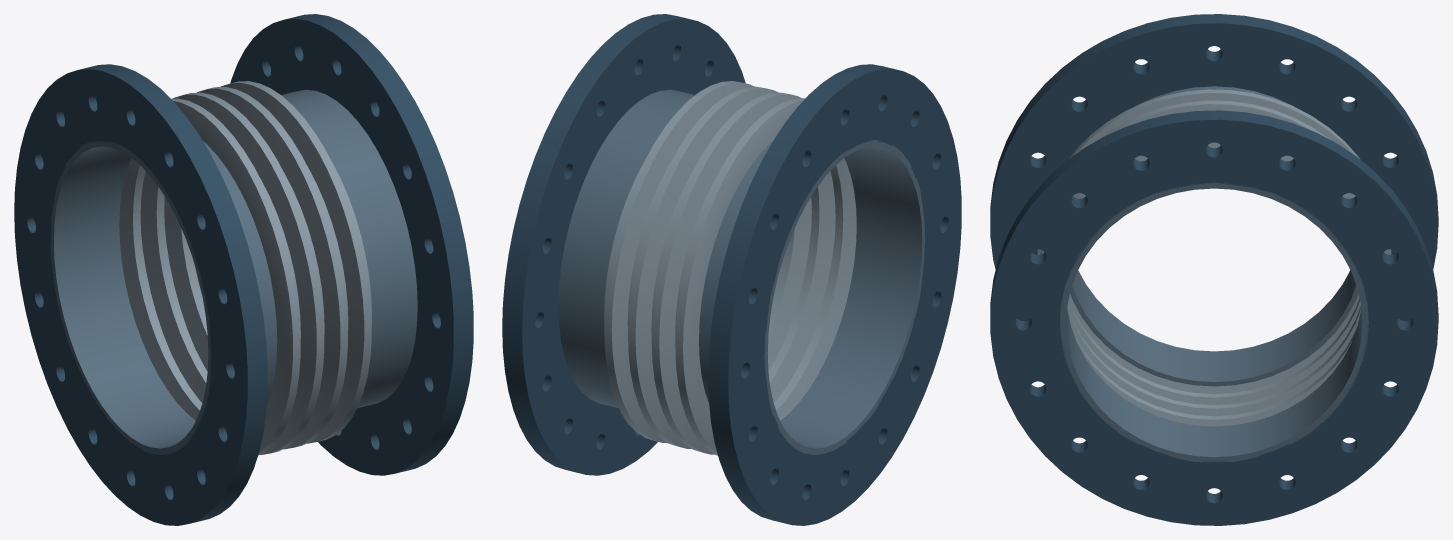
The model's file is flan-dn400-L390-D482-f-o580.glb.
3 renders of one model, left to right at view 1: azimuth 30°, elevation 25°; view 2: azimuth 150°, elevation 25°; view 3: azimuth 270°, elevation 25°, orthographic. The views are drawn at different scales.
Parts seen in each view (by area): view 1: homut_flanec_1, prokladka_silfon_1, homut_flanec_2, patrubok_1, patrubok_2; view 2: homut_flanec_1, prokladka_silfon_1, homut_flanec_2, patrubok_1, patrubok_2; view 3: homut_flanec_2, homut_flanec_1, prokladka_silfon_1, patrubok_2, patrubok_1.
Part boxes in pixels (x1,y1,x2,y2): homut_flanec_1: (14,64,267,525); prokladka_silfon_1: (119,81,371,455); homut_flanec_2: (230,14,473,475); patrubok_1: (50,140,277,454); patrubok_2: (281,89,417,407); homut_flanec_1: (708,64,961,525); prokladka_silfon_1: (604,81,856,455); homut_flanec_2: (502,14,745,475); patrubok_1: (699,140,924,454); patrubok_2: (558,89,694,408); homut_flanec_2: (990,110,1438,525); homut_flanec_1: (990,14,1438,320); prokladka_silfon_1: (1037,89,1391,426); patrubok_2: (1059,182,1368,462); patrubok_1: (1070,86,1358,386).
Size of the model in its own units: 390 by 699 by 698.
